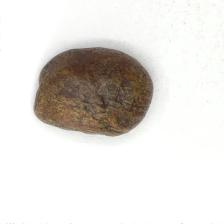NG: (76, 72, 145, 135)
